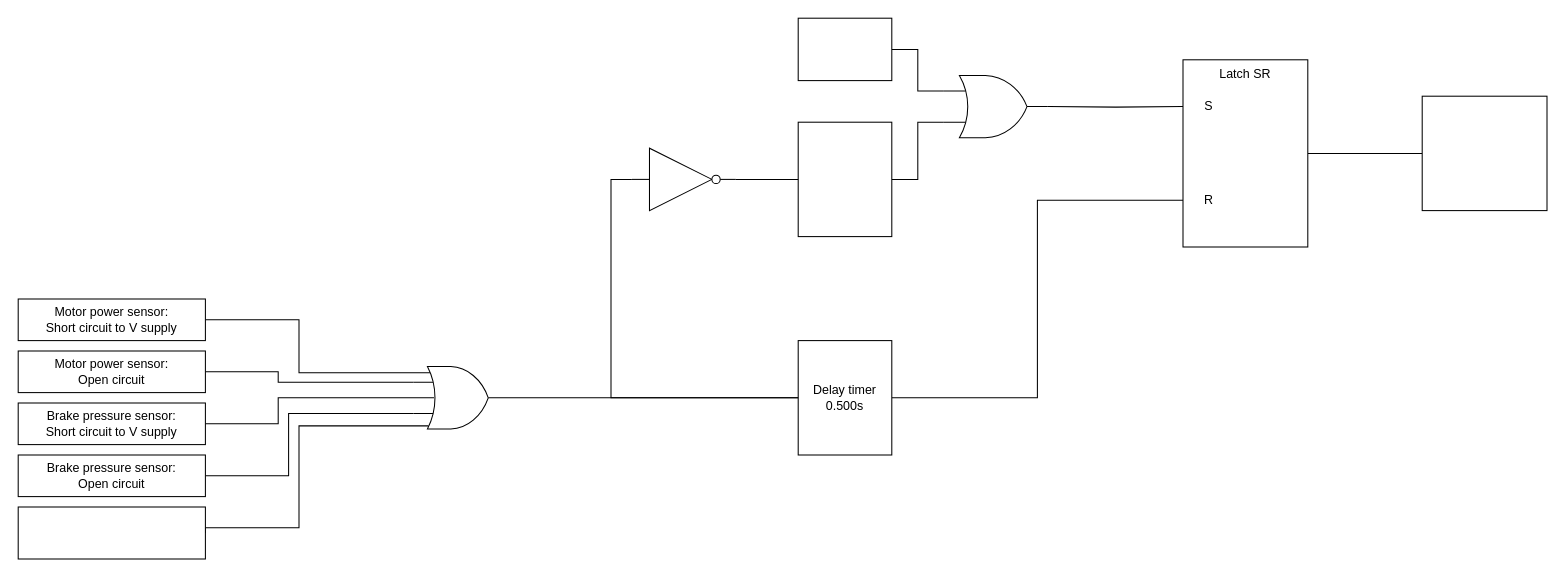
Some shapes in this 1565 by 577 pixel diagram are drawn without their labels. The shapes that lost their labels are listed below. From the top down, each one's centre as x and y in pixels, then its label:
point 844,49: Power on pulse
point 1484,153: NO Relay
point 844,179: Delay Timer 10s (Since normal condition recovery)
point 111,532: Motor power > 5kW + Hard braking
